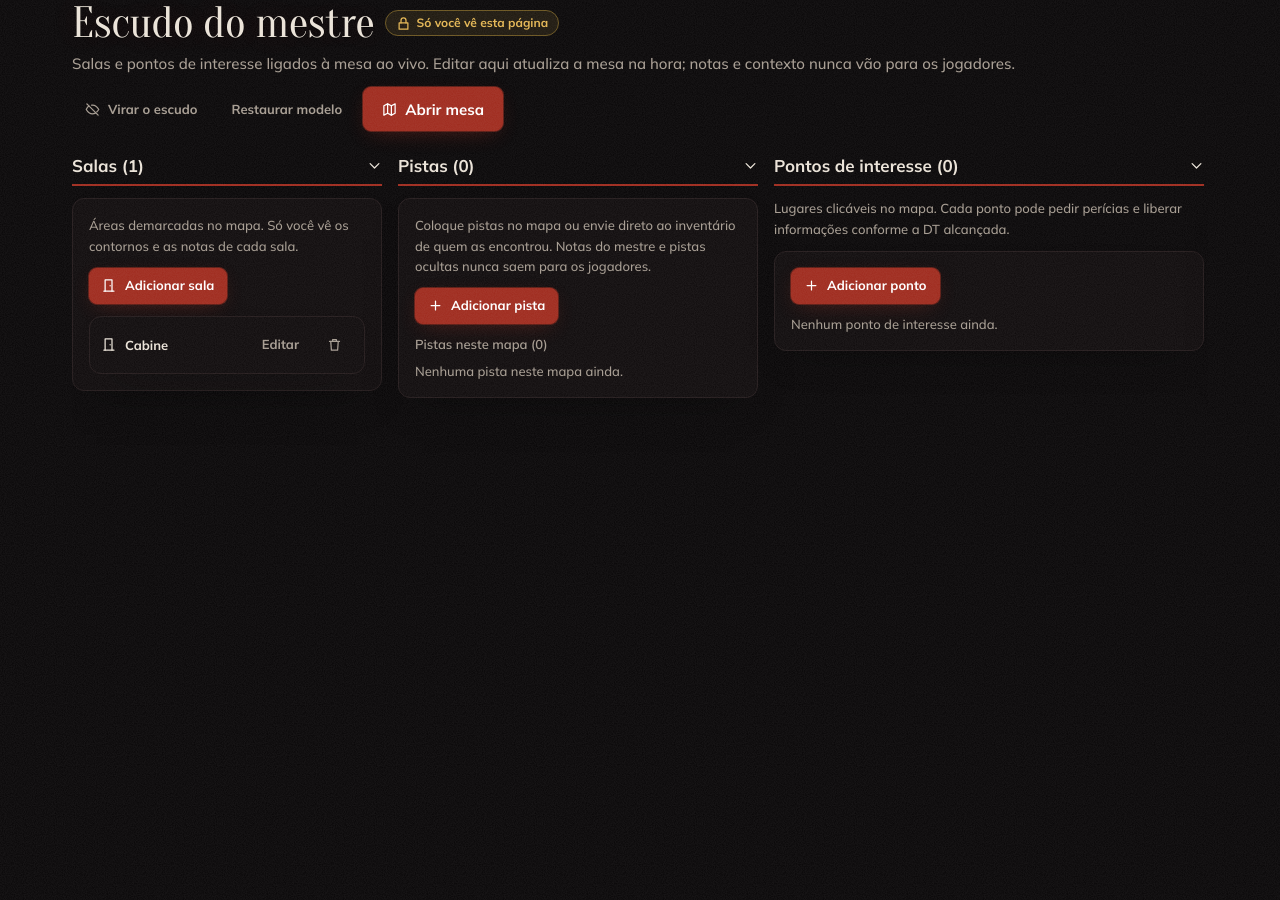
Scenario: Escudo do mestre › recolhe e expande seções como dropdown e cria pista via modal com mini-mapa
Expected: the text "Cabine" is shown, [125,335,168,355]
# Recolhe e expande o dropdown de Salas.
Click the button "Salas (1)" at (108, 166), box [72,155,382,186]
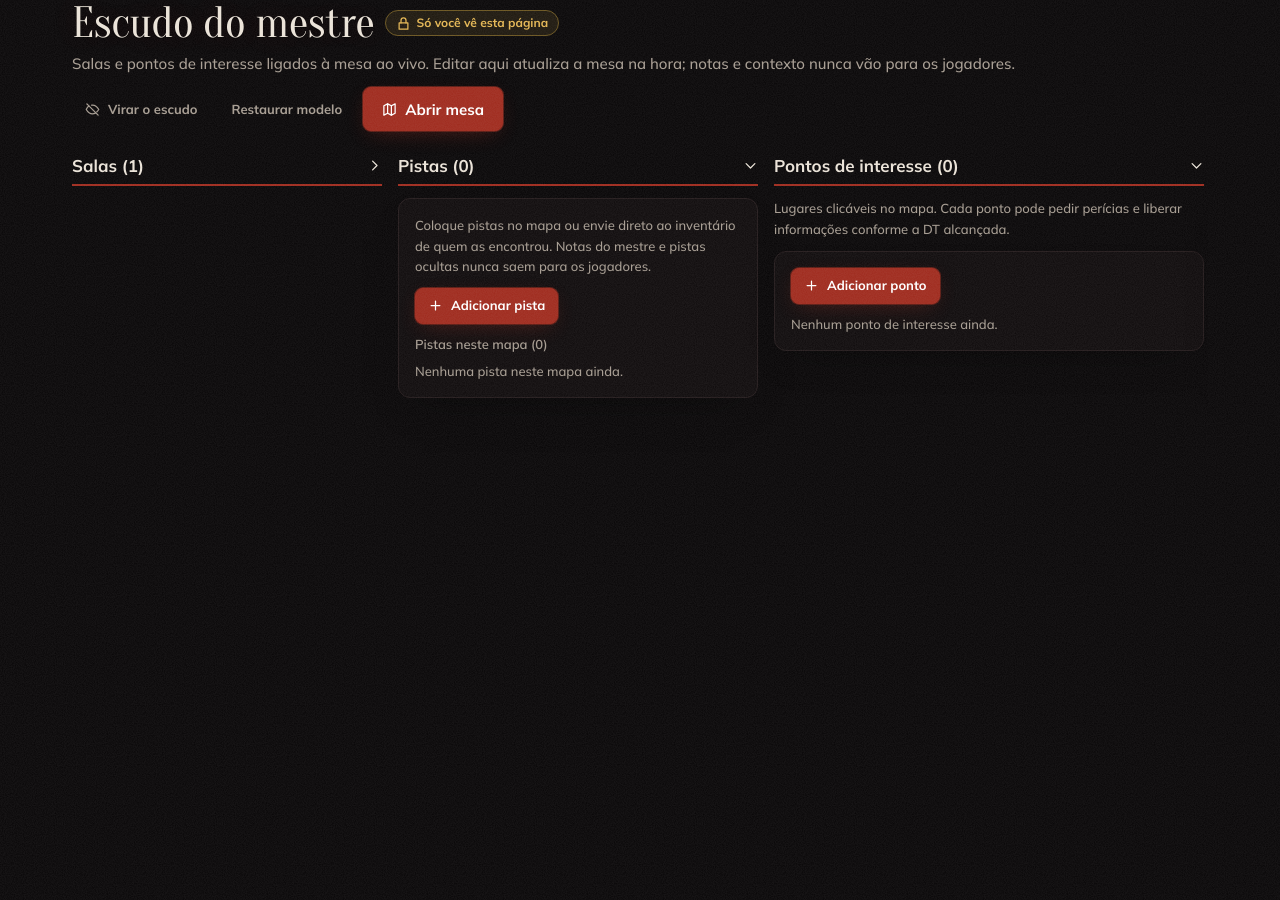
Expected: the text "Cabine" is gone
Click the button "Salas (1)" at (108, 166), box [72,155,382,186]
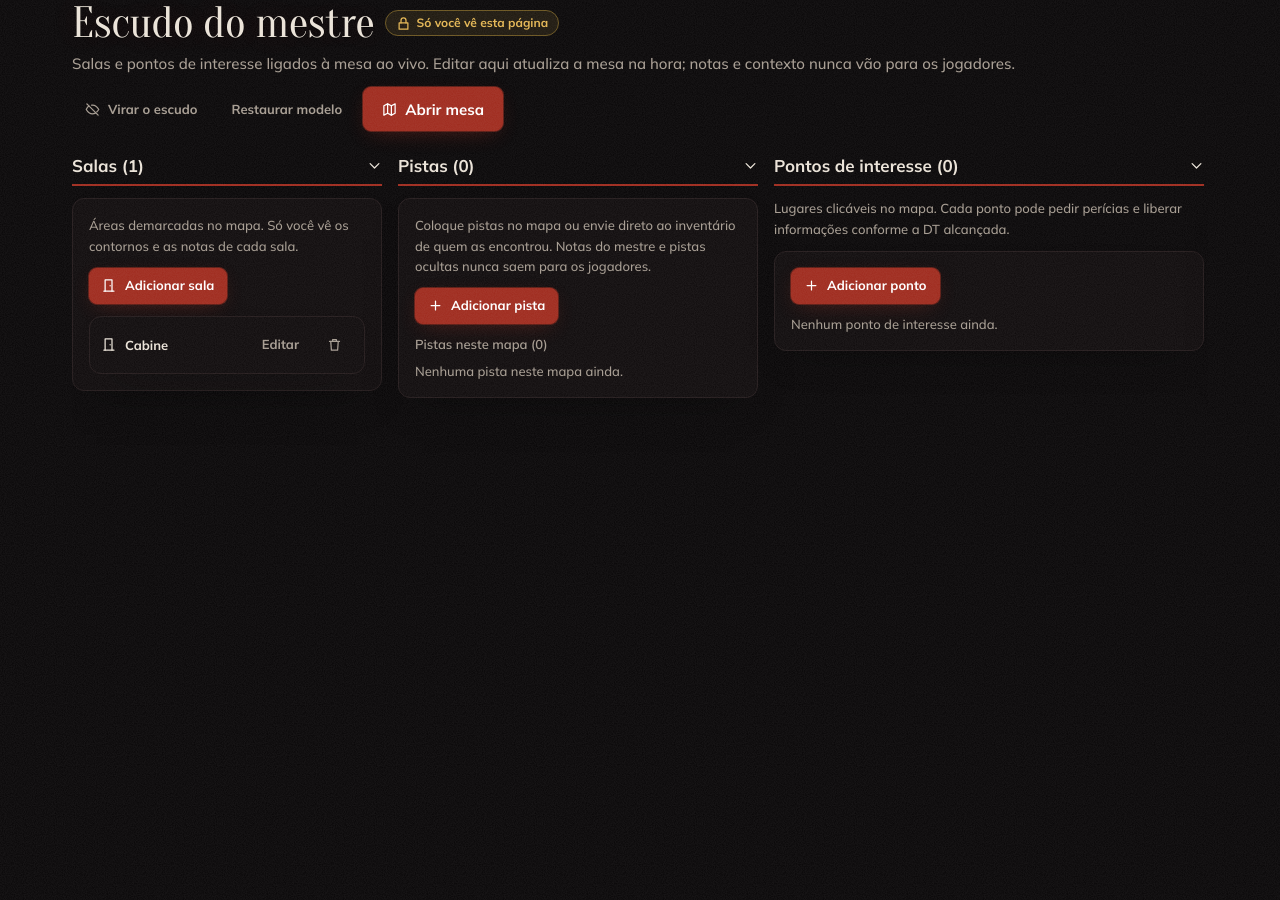
Expected: the text "Cabine" is shown, [125,335,168,355]
# Abre o modal de Nova pista e cria uma pista escolhendo posição no mini-mapa.
Click the button "Adicionar pista" at (487, 306), box [415,288,558,324]
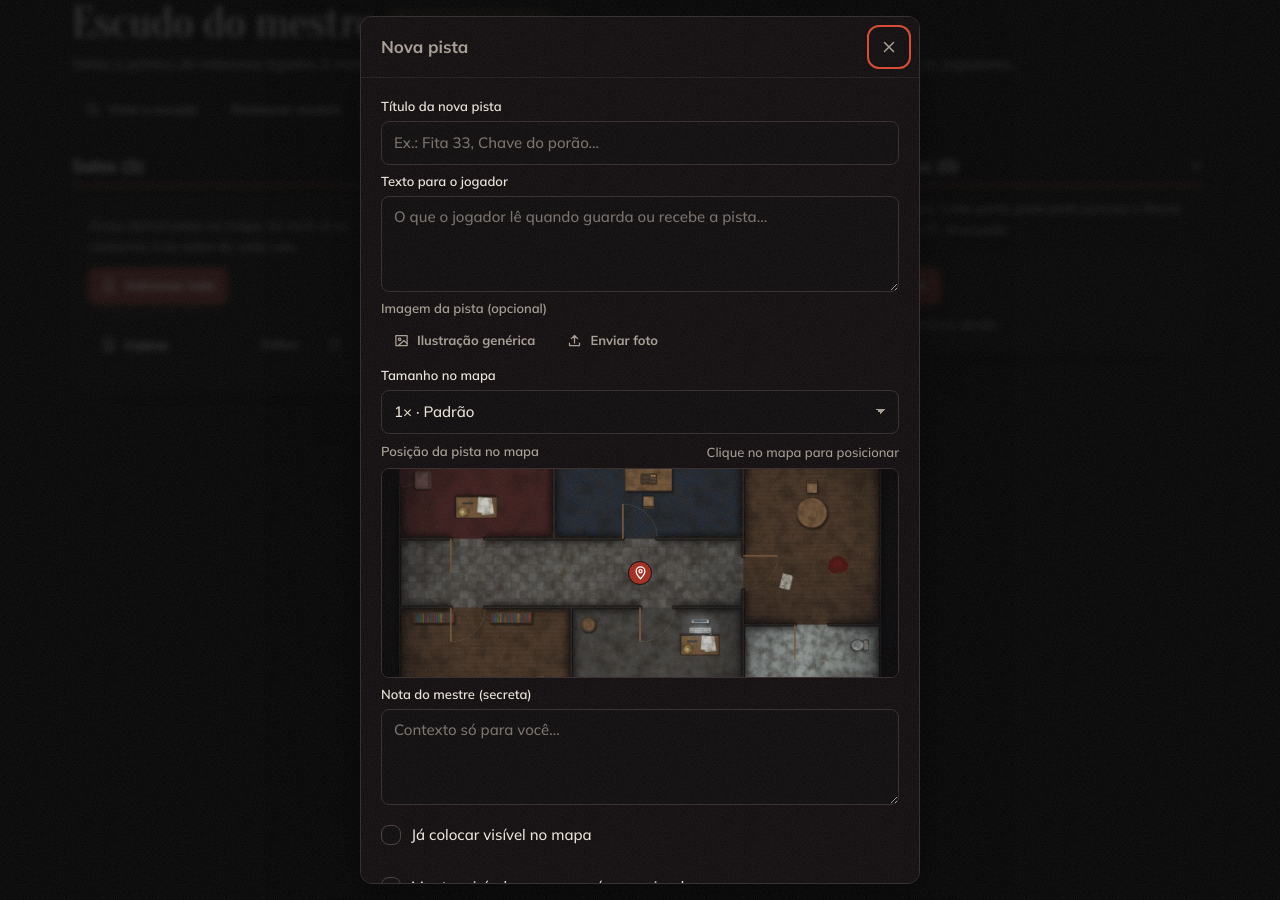
Type "Carta rasgada" into the field labelled "Título da nova pista" at (640, 143), box [381,121,899,165]
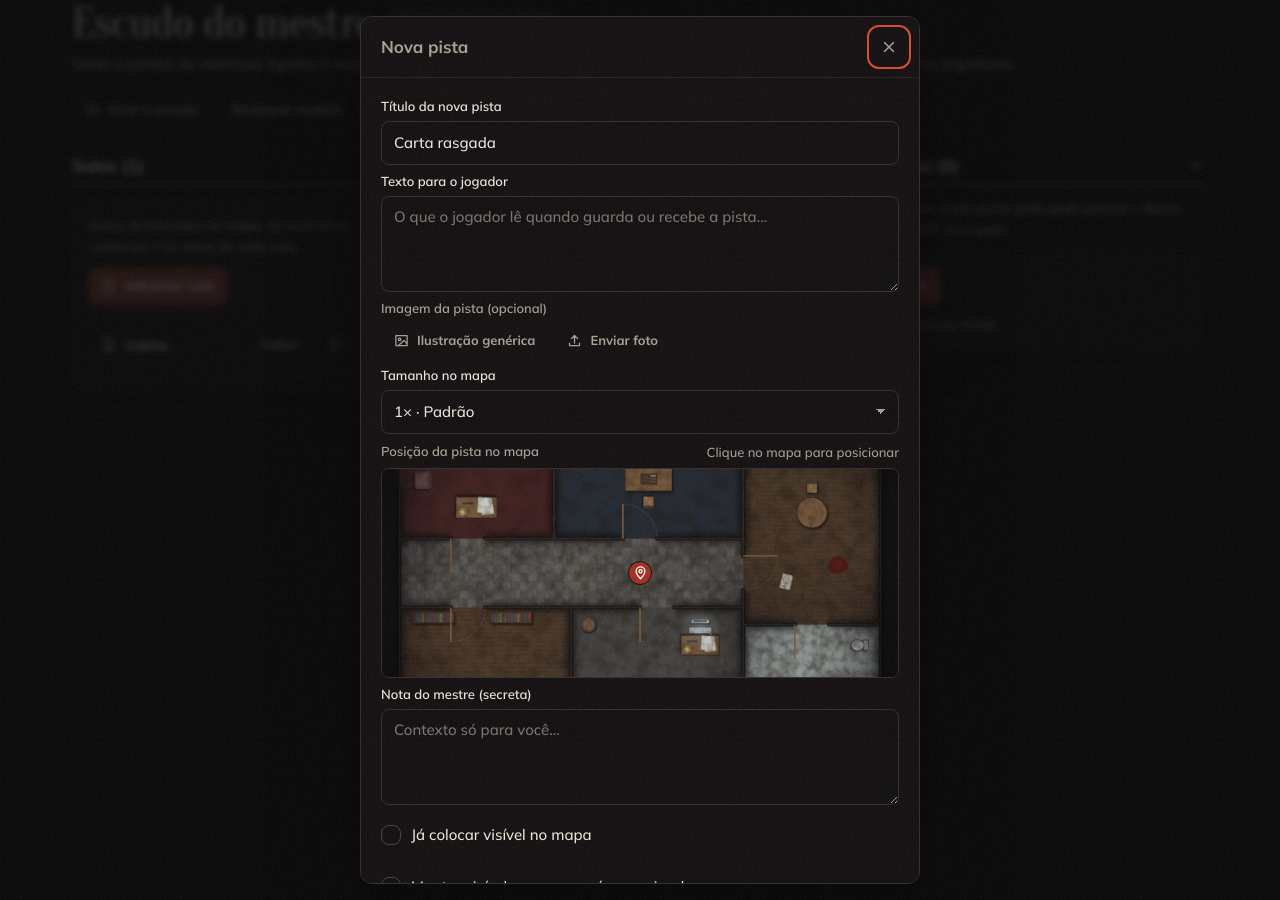
Click the button named "Posição da pista no mapa" at (640, 573), box [381,468,899,678]
(page scrolled)
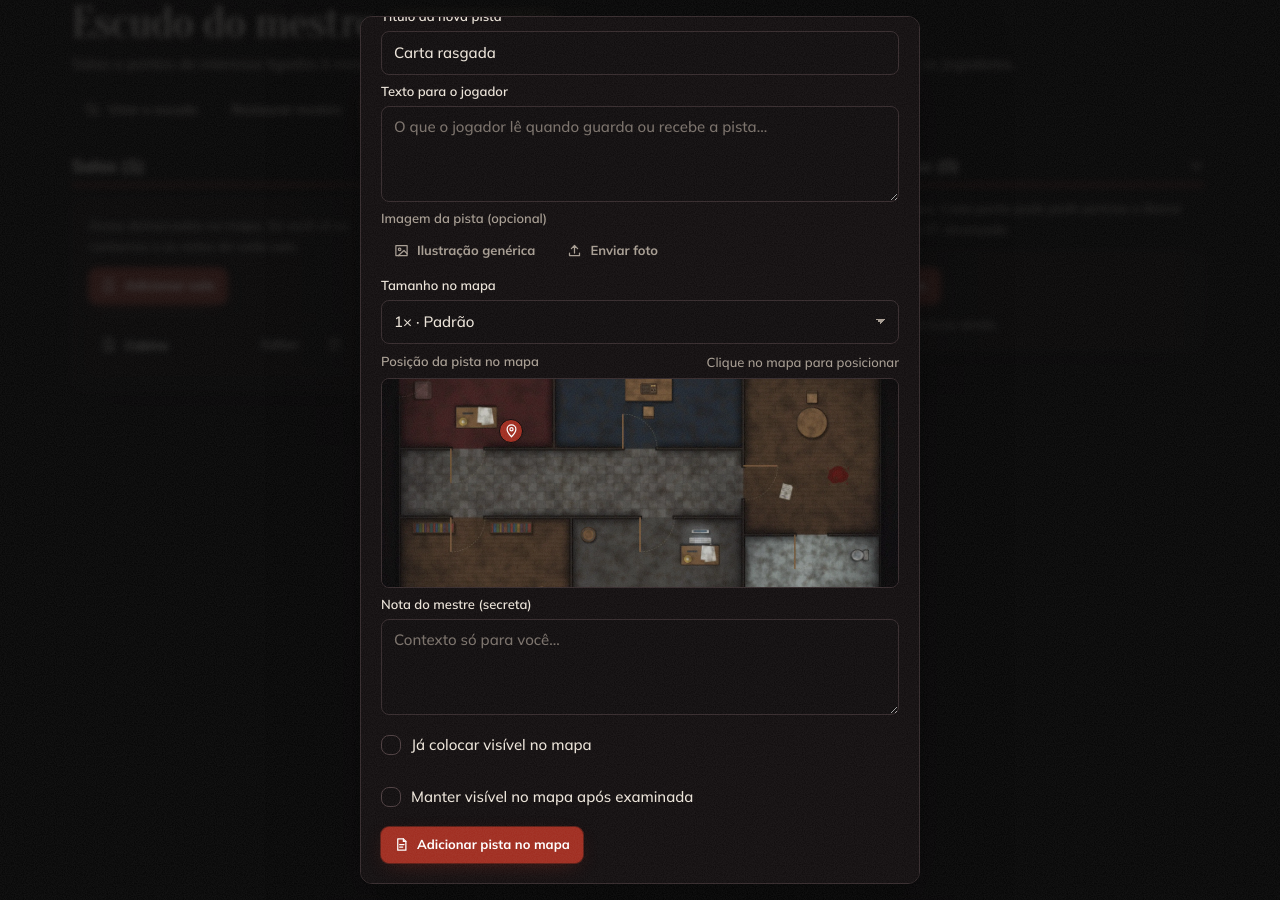
Click the button "Adicionar pista no mapa" at (482, 845), box [381,827,583,863]
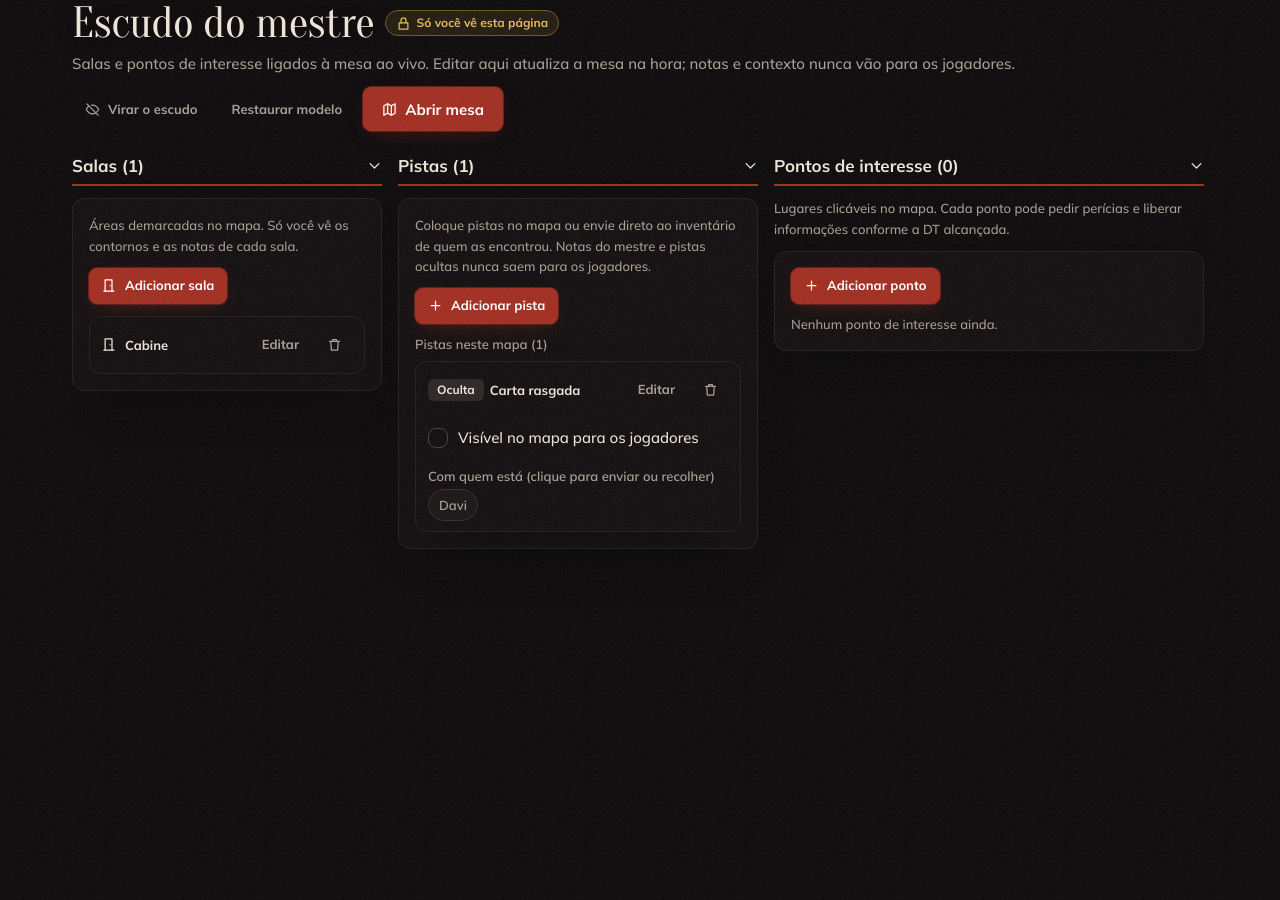
Expected: the text "Carta rasgada" is shown, [490,380,580,400]
